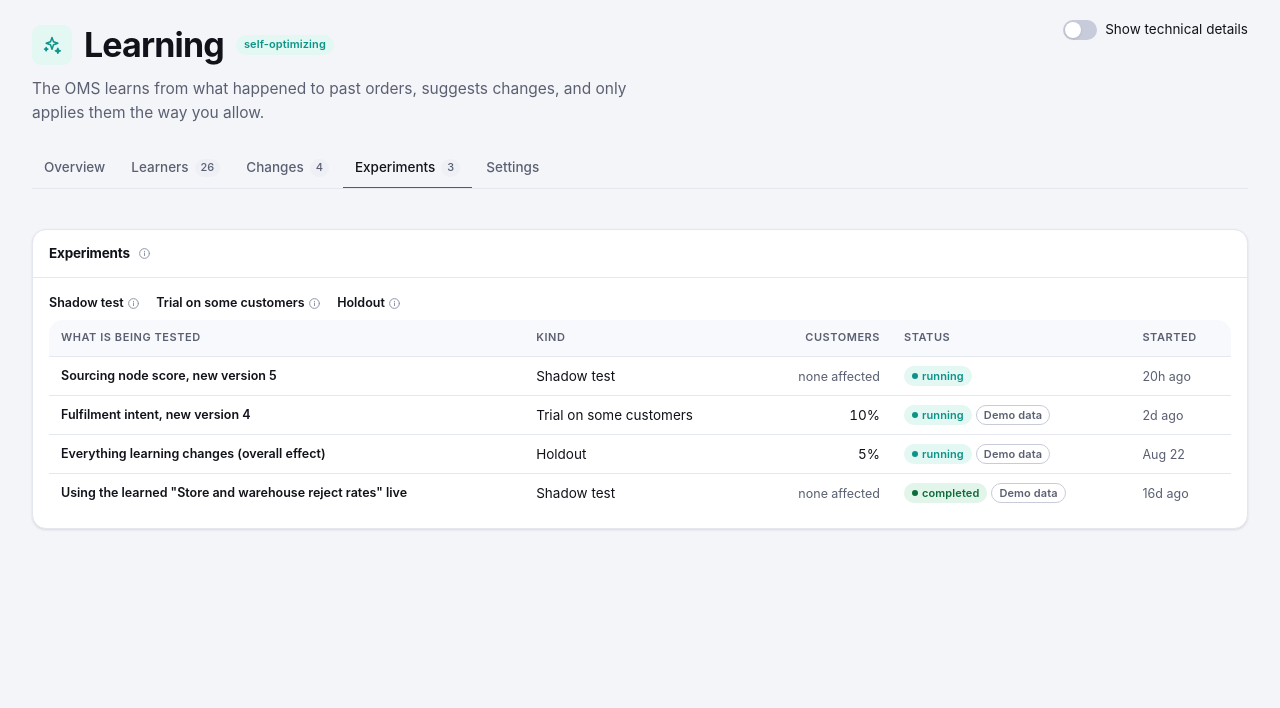
Test: Learning Console › shows experiments in words and the objective draft that needs someone else to approve
Expected: the text "Trial on some customers" in the row of "Fulfilment intent, new version 4" is shown, [536, 407, 693, 423]
Expected: the text "Everything learning changes (overall effect)" is shown, [61, 446, 326, 461]
Click the tab "Settings" at coordinates (513, 169), box [474, 148, 551, 189]
(page scrolled)
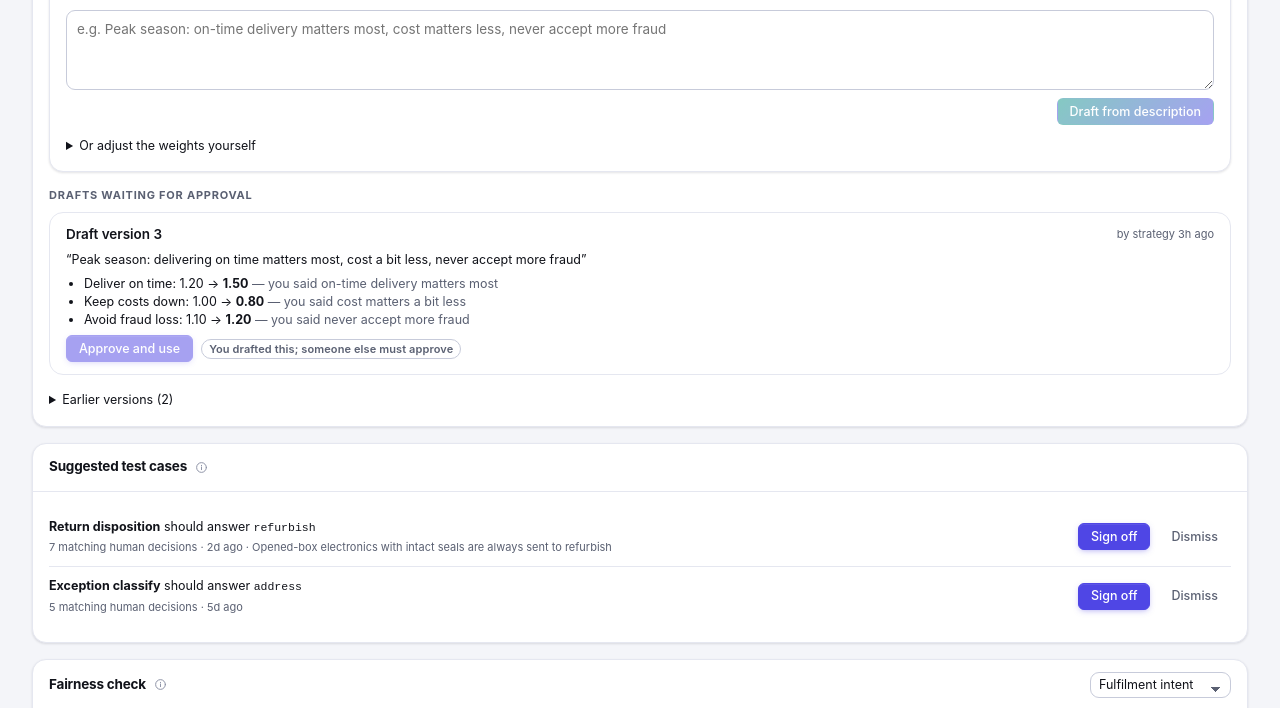
Expected: the button "Approve and use" is disabled, [66, 335, 193, 362]
Expected: the text "You drafted this; someone else must approve" is shown, [201, 339, 461, 359]
